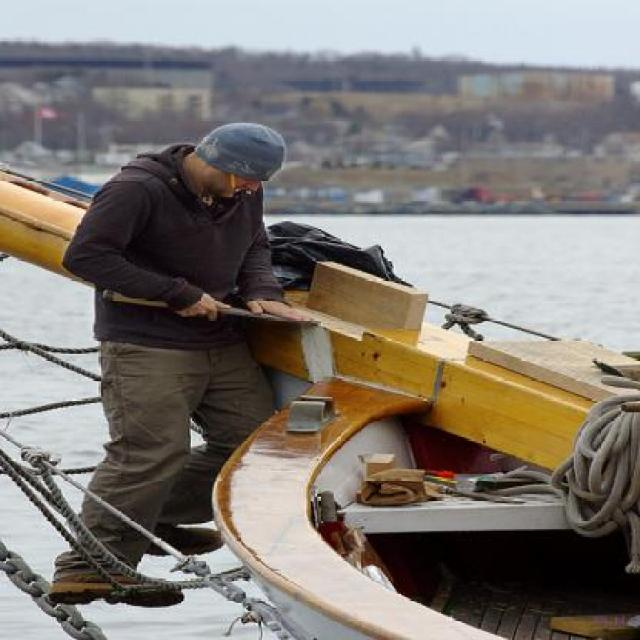ship: (0, 167, 637, 635)
